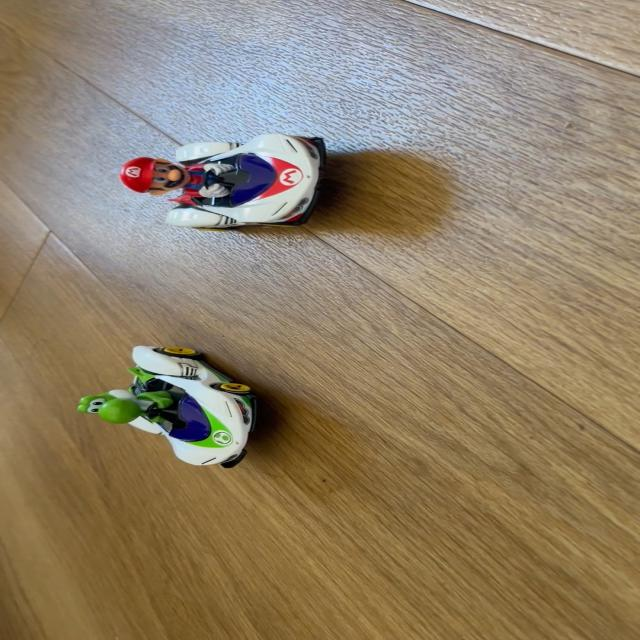mario: (104, 130, 342, 236)
yoshi: (66, 338, 274, 478)
